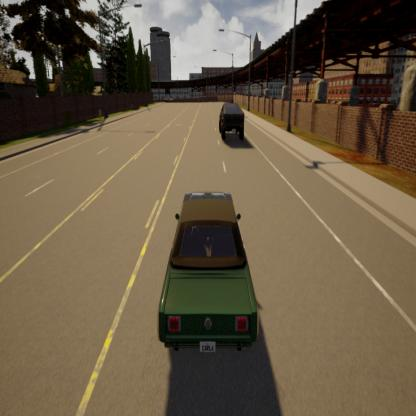Cars: (155, 191, 261, 359), (219, 100, 245, 144)
Pedestrian: (97, 107, 103, 126)
